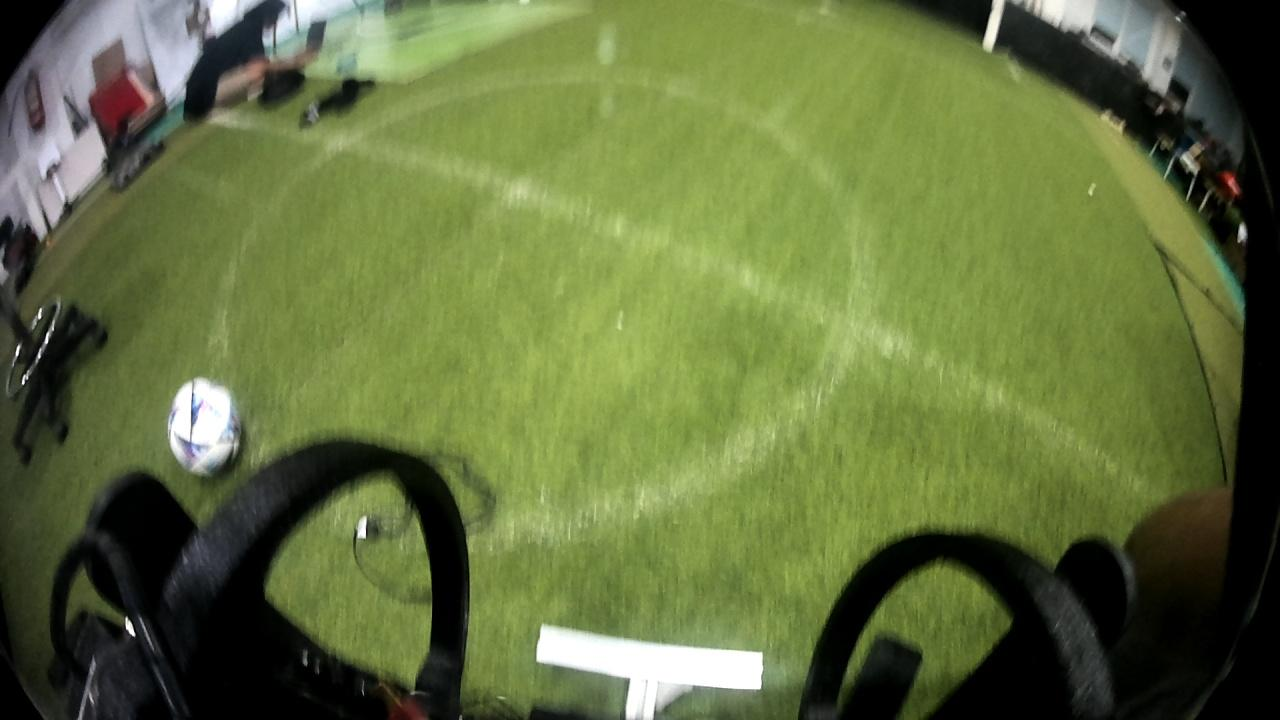ball: (169, 369, 246, 486)
